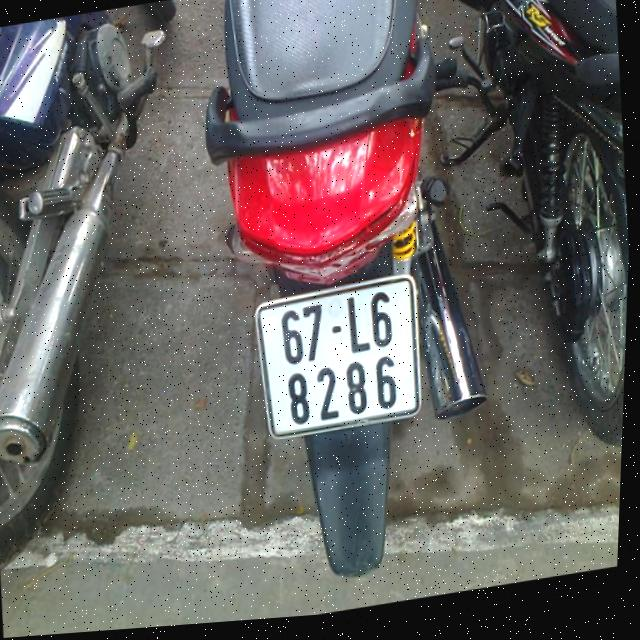motorcycle: (176, 0, 519, 616), (0, 0, 217, 579), (427, 0, 640, 489)
plate: (246, 269, 429, 441)
